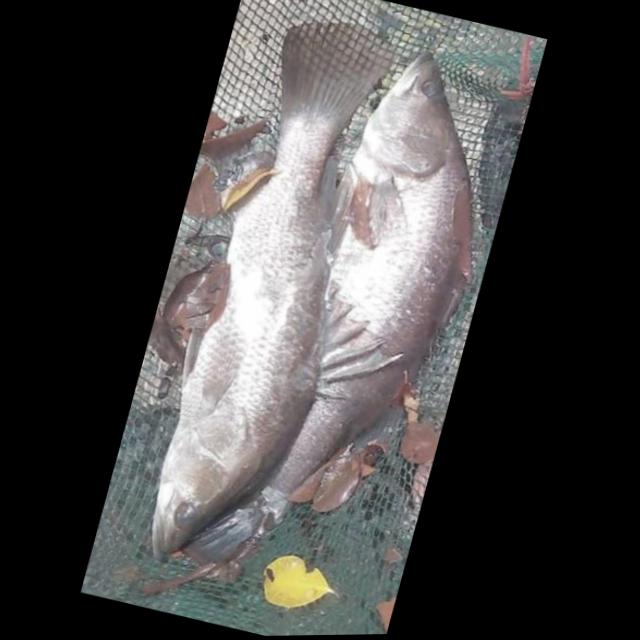Seabass: (122, 3, 487, 611), (175, 21, 529, 619)
